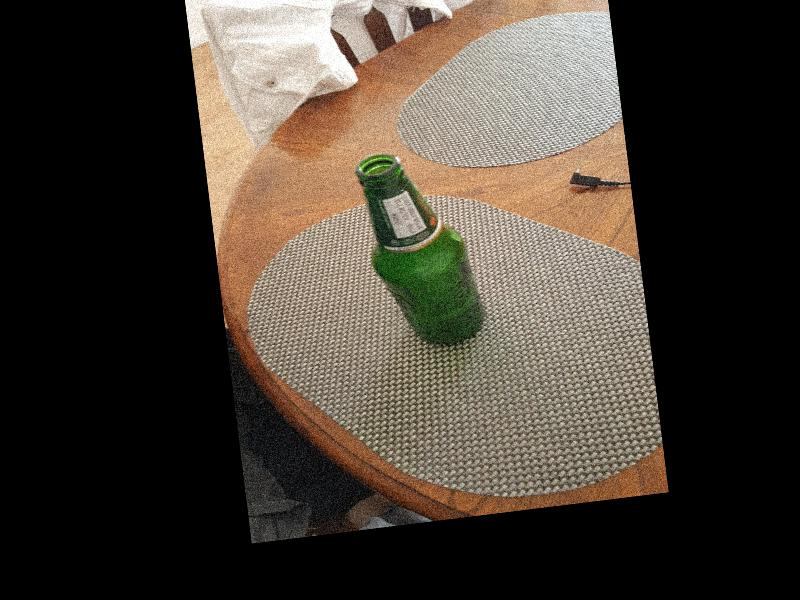Beer: (362, 146, 488, 352)
